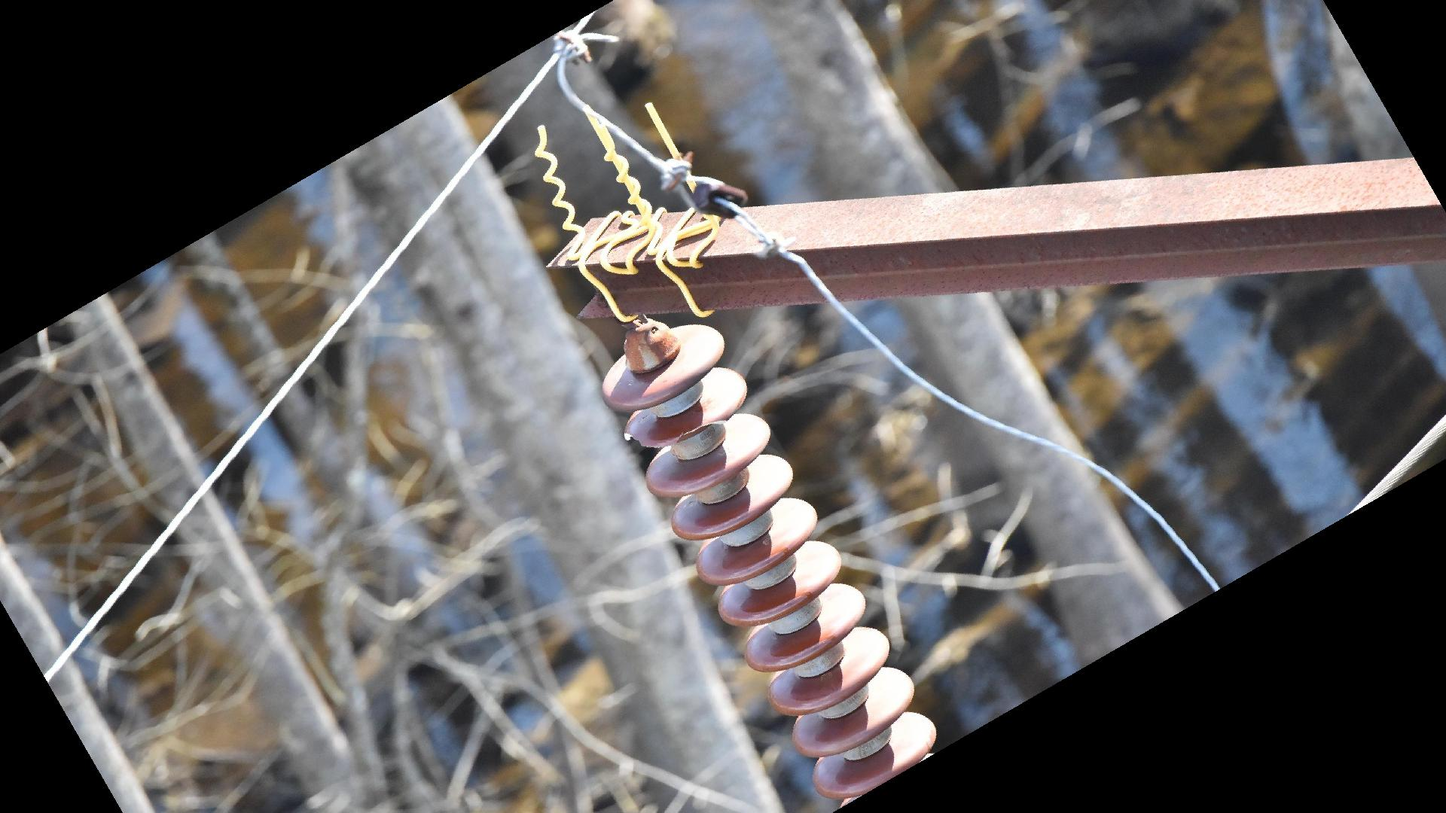insulator: (594, 319, 941, 813)
insulator_breakage: (618, 415, 734, 453)
